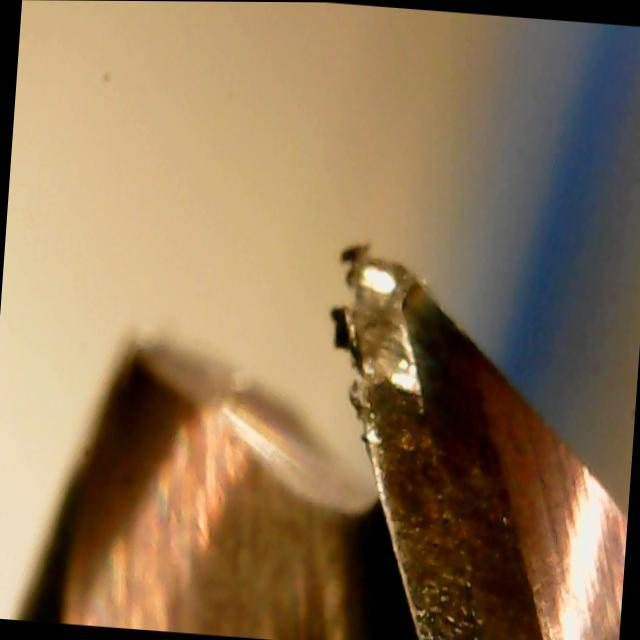Tool-wear-class-3: (292, 223, 523, 564)
